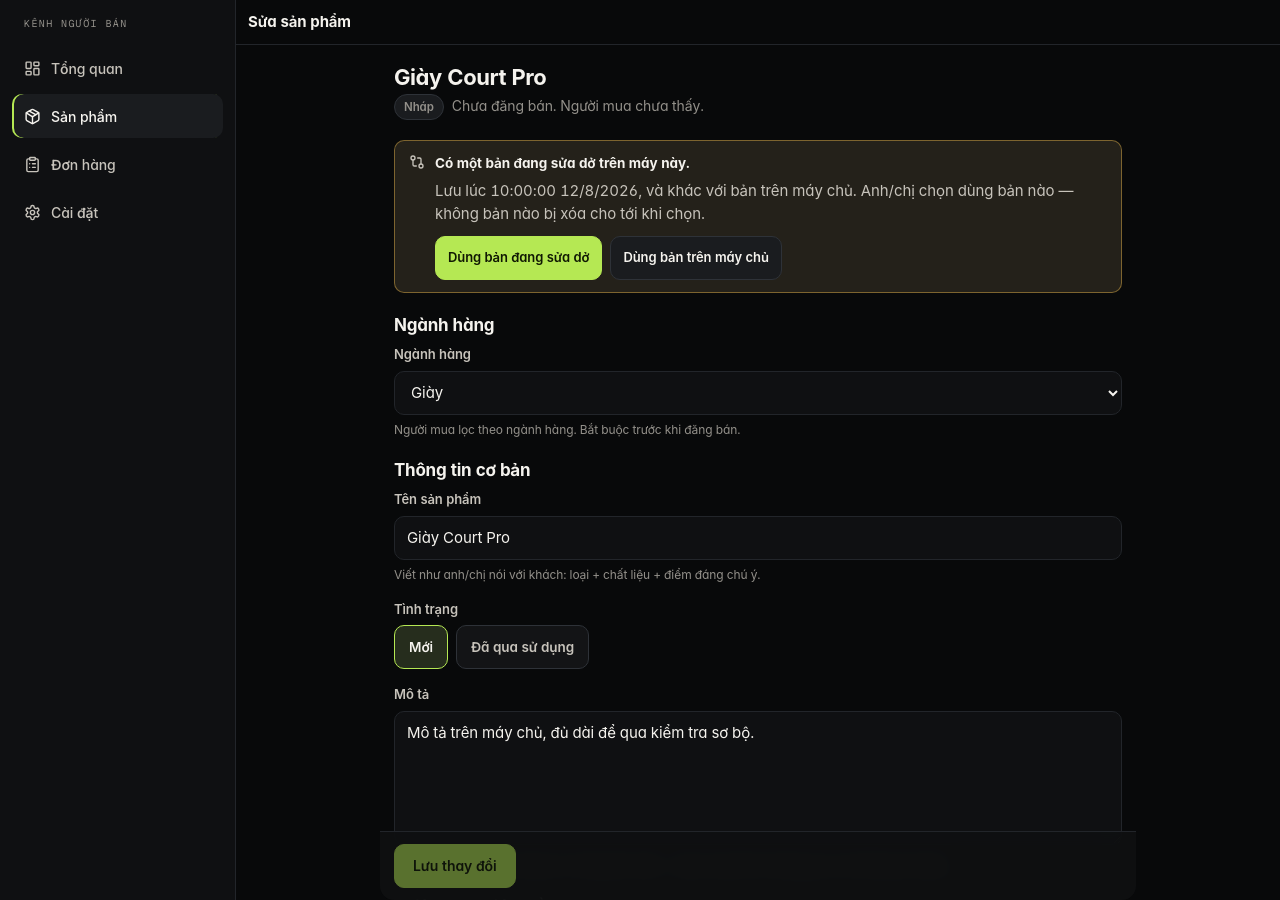
Test: a local draft that differs from the server › drops the local copy when the seller picks the server one
Check: the text "Có một bản đang sửa dở trên máy này." is shown, box 435,155 -> 690,171
Click the button "Dùng bản trên máy chủ" at point(696, 258), box 610,236 -> 782,280
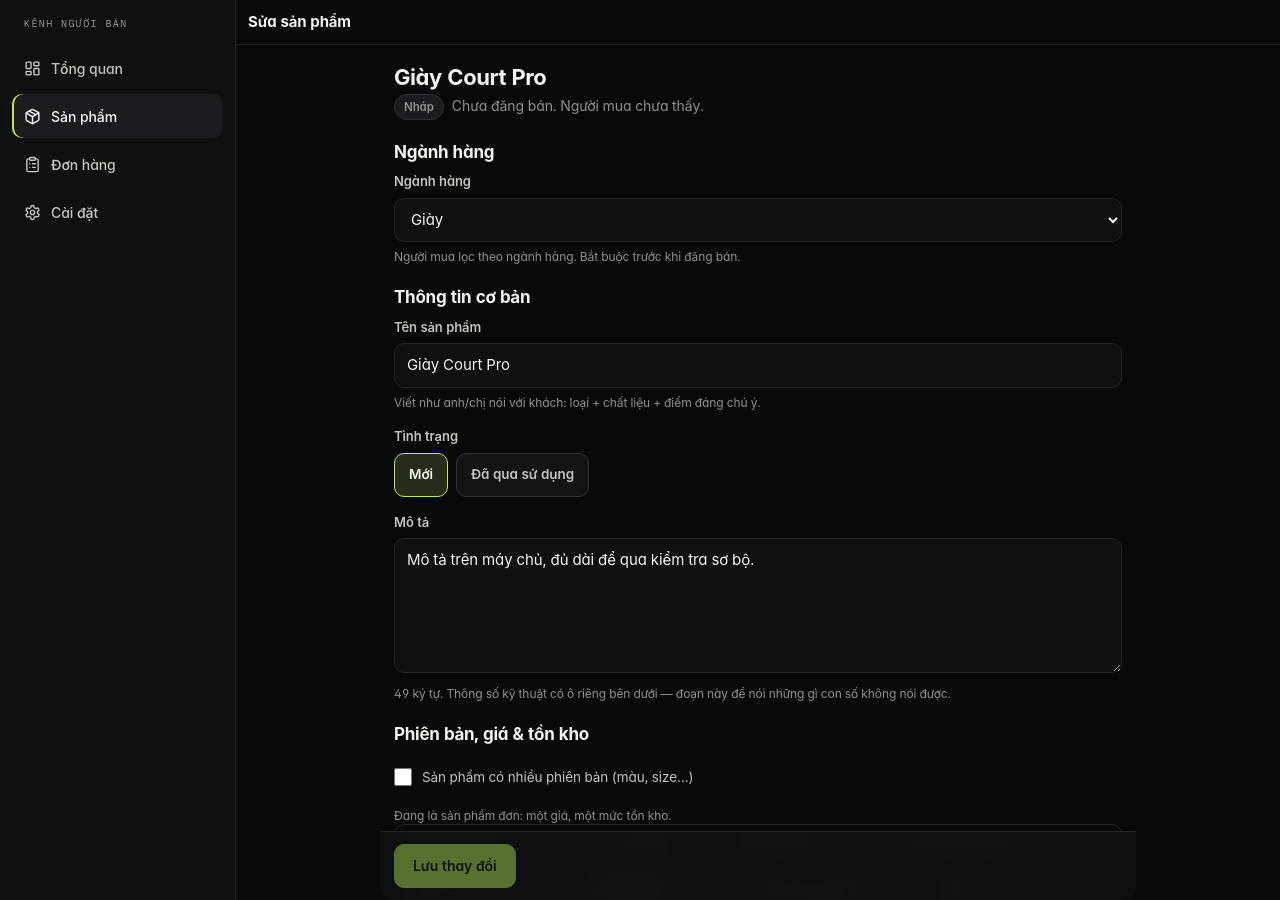
Check: the field labelled "Tên sản phẩm" holds "Giày Court Pro", box 394,343 -> 1122,388
Check: the text "Có một bản đang sửa dở trên máy này." is gone
